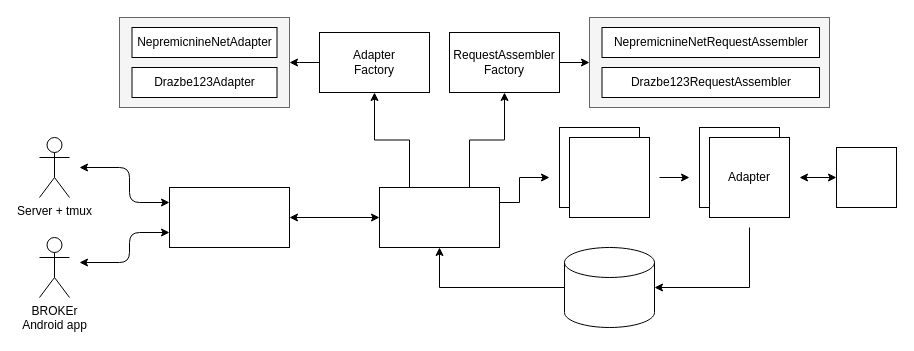
This 914x351 diagram has some shape labels left out. Here are the shapes that lost their labels. From the top down, the centre of each, then its label:
point (609, 177): Request Assembler
point (866, 177): HttpClient
point (229, 217): API
point (439, 217): RealEstate Bean
point (609, 287): PostgreSQL
